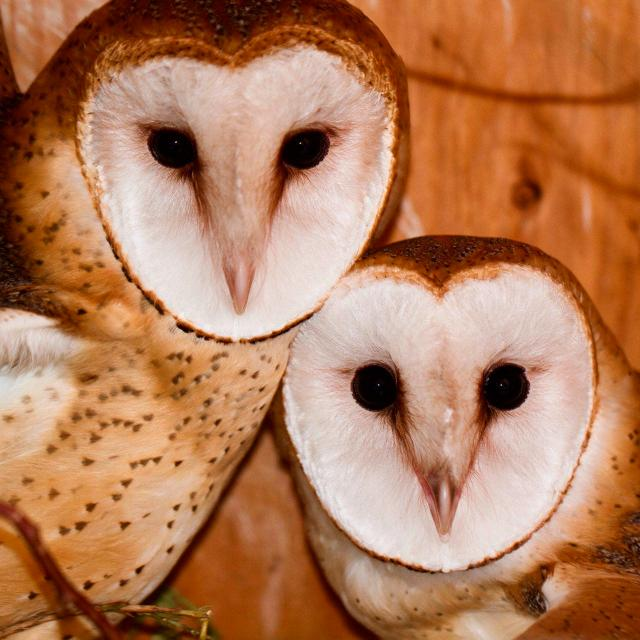owl: (0, 0, 409, 604), (274, 236, 638, 640)
